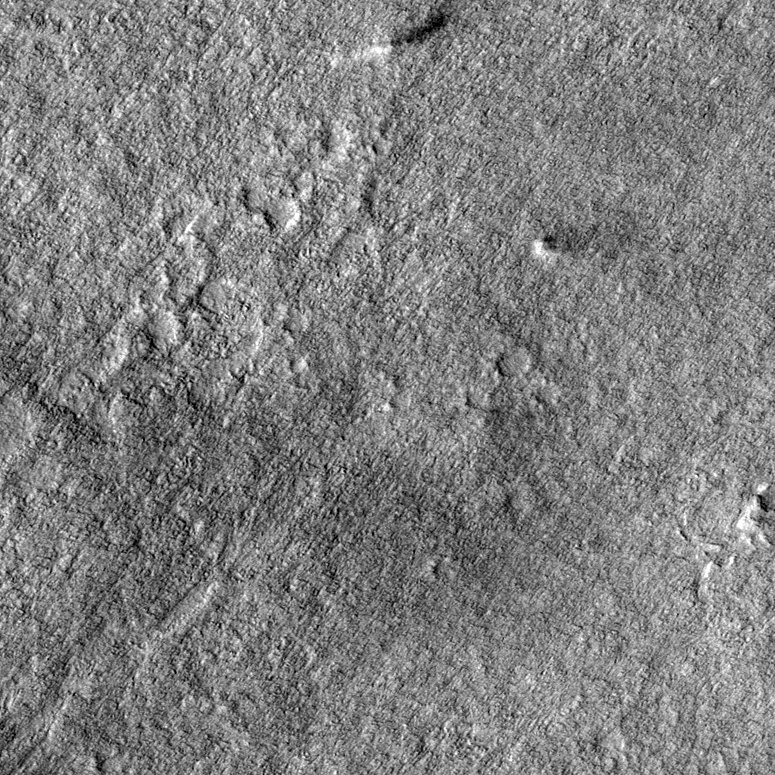dust_devil: (327, 7, 455, 71), (533, 224, 589, 258)
